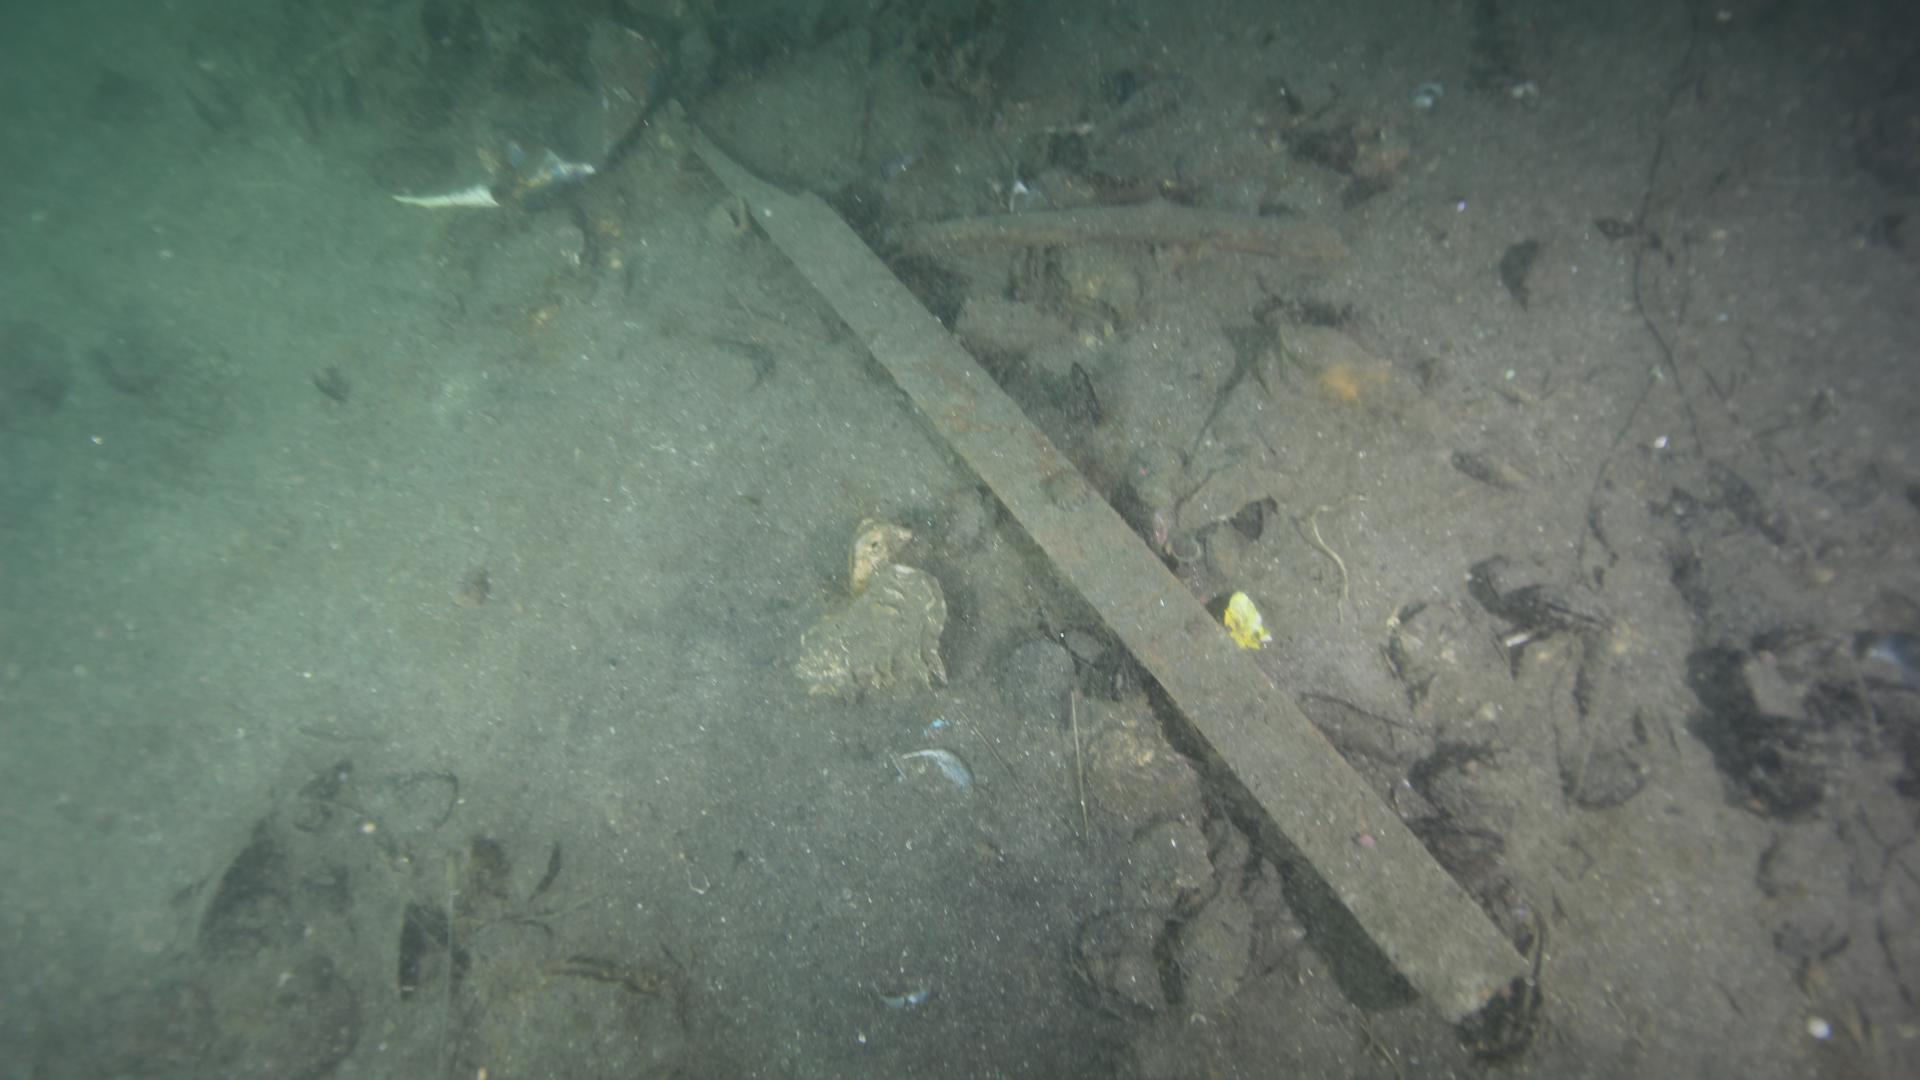wood: (686, 117, 1545, 1064)
